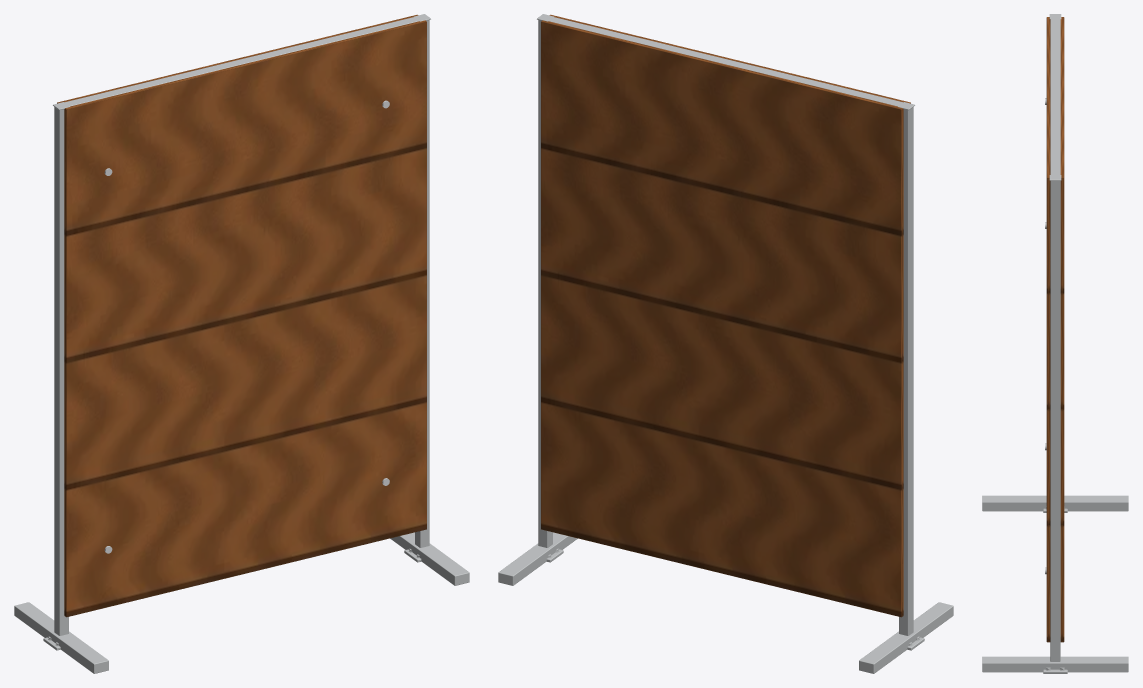
Rendered from fps-weapon-set-and-firing-range-lane-divider-79c8ff39__19493.glb.
The picture shows the model from 3 angles, left to right: view 1: azimuth 30°, elevation 25°; view 2: azimuth 150°, elevation 25°; view 3: azimuth 270°, elevation 25°; orthographic projection. The views are drawn at different scales.
Parts seen in each view (by area): view 1: lane-divider; view 2: lane-divider; view 3: lane-divider.
Boxes of the visible parts, <box> form: lane-divider: <box>14,14,469,673</box>; lane-divider: <box>498,14,953,673</box>; lane-divider: <box>982,14,1128,673</box>.
Bounding box in the file's own units: 1.38 × 1.85 × 0.4999.
Materials: 3 (1 with a texture image).
